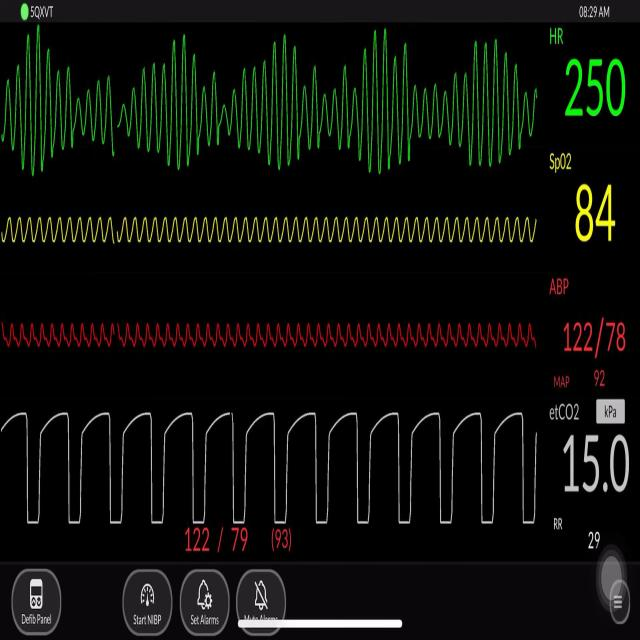danger: (6, 36, 544, 186)
